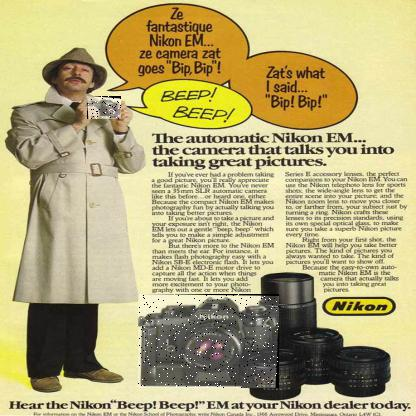Camera: (139, 295, 281, 390), (88, 98, 123, 122)
